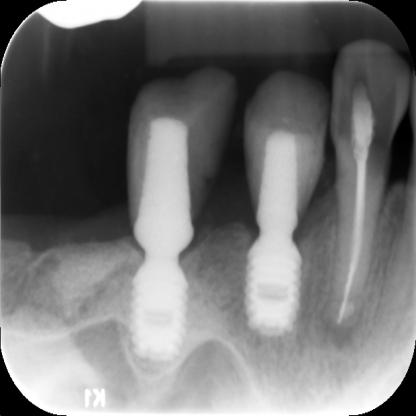Bicon: (122, 256, 194, 364), (239, 237, 307, 339)
